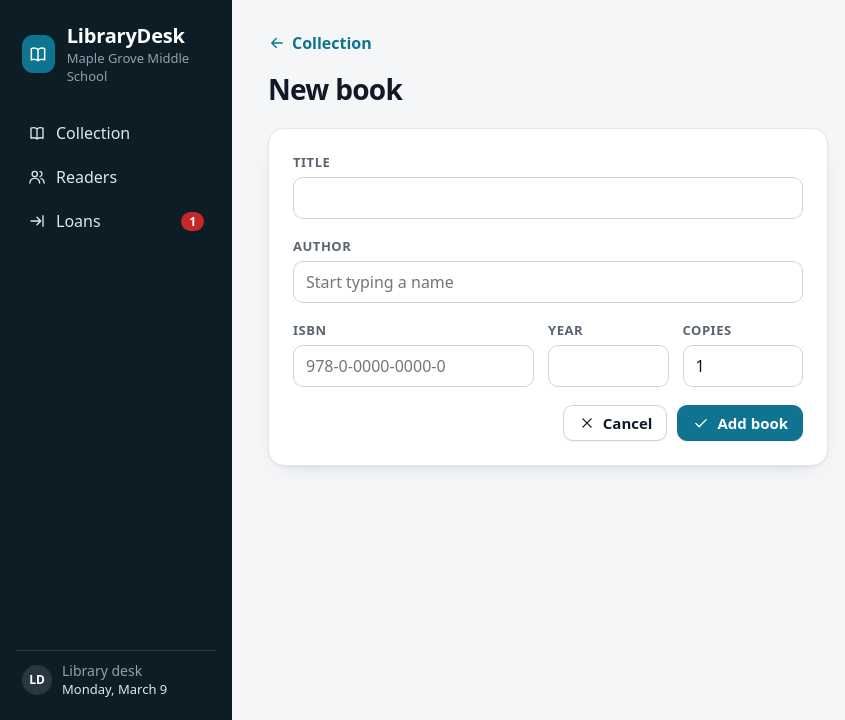
a new book › shows what the API says about each field
Expected: the navigation bar named "Main" is shown, [16,113,216,241]
Type "Go Set a Watchman" into the field labelled "Title". click: (548, 198)
box: [293,177,803,219]
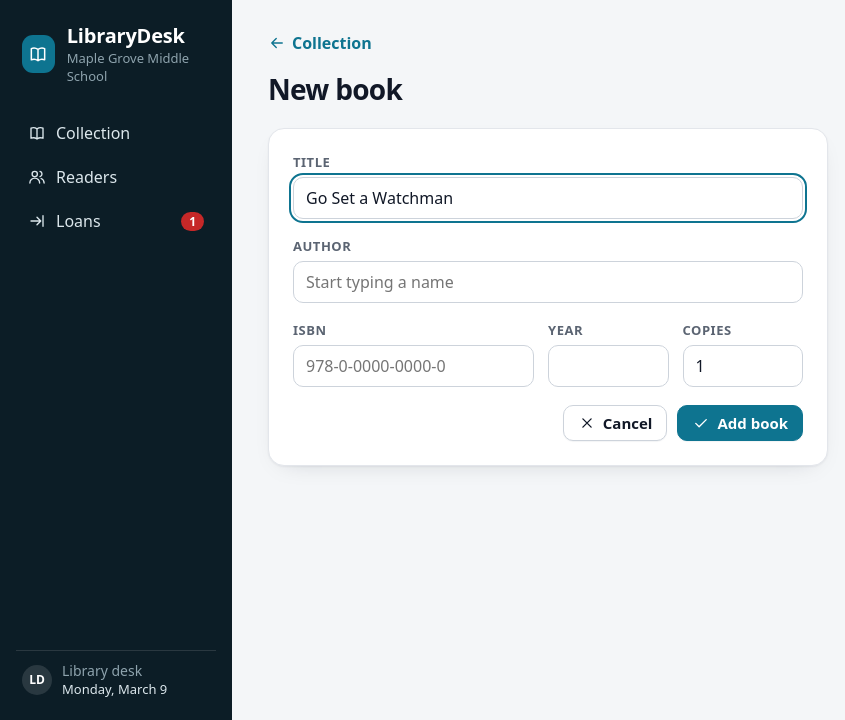
Type "9780306406157" into the field labelled "ISBN". click: (414, 366)
box: [293,345,534,387]
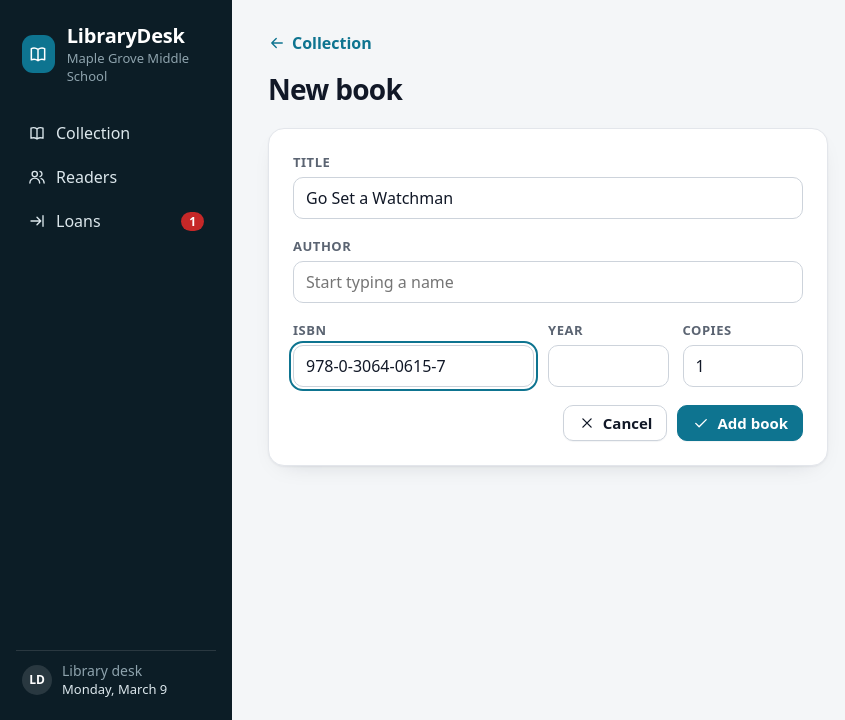
Type "2015" into the field labelled "Year". click: (608, 366)
box: [548,345,668,387]
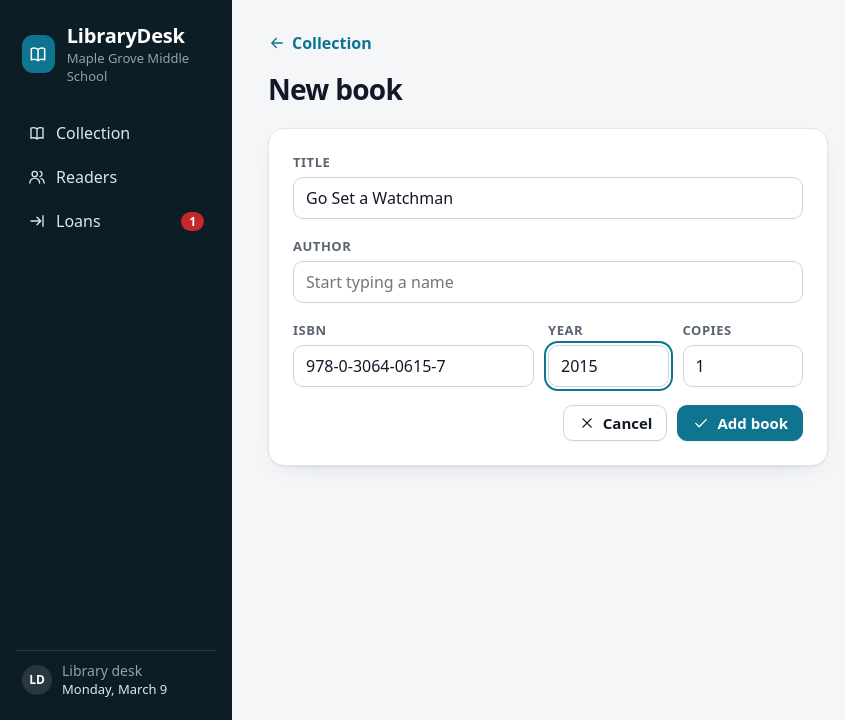
Click the button "Add book". click: (740, 423)
box: [677,405,803,441]
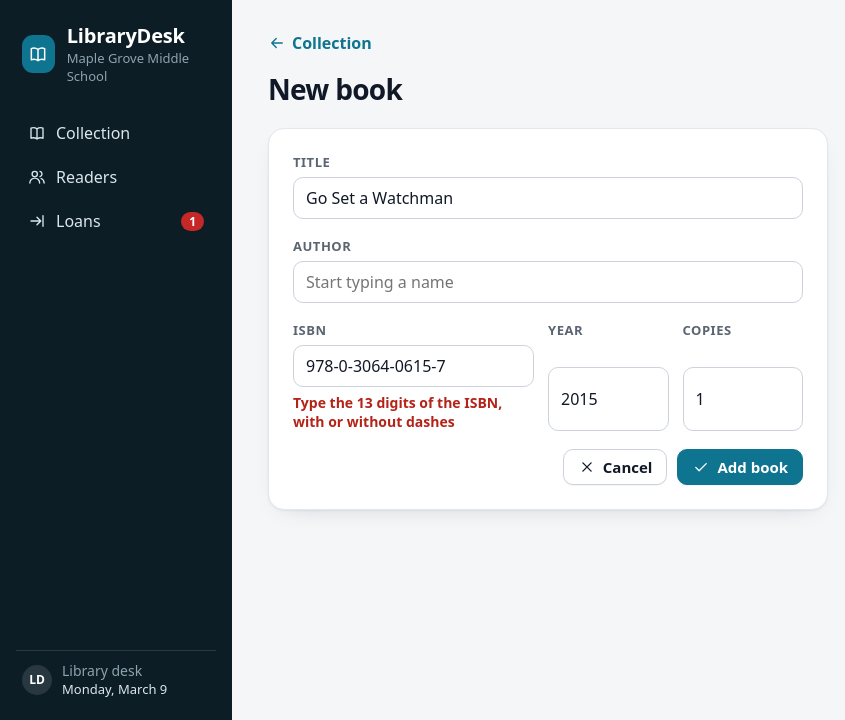
Result: the text "Type the 13 digits of the ISBN, with or without dashes" is shown at [293,393,534,431]
